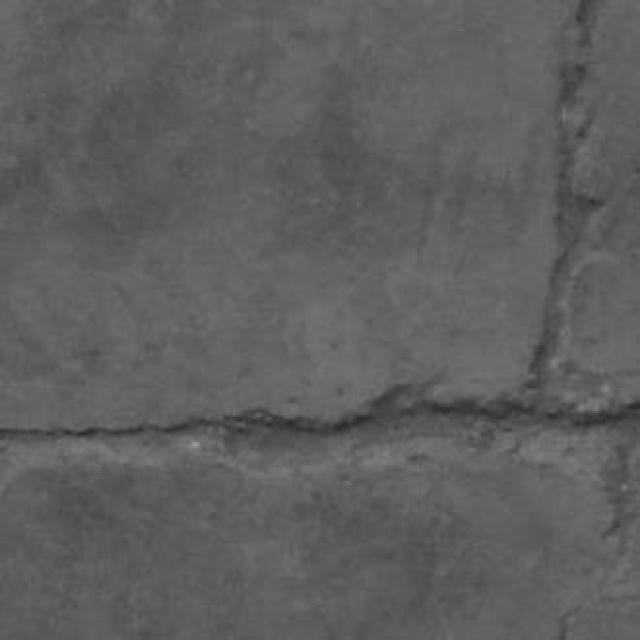crack: (0, 386, 639, 440), (530, 0, 605, 401), (606, 435, 634, 554)
